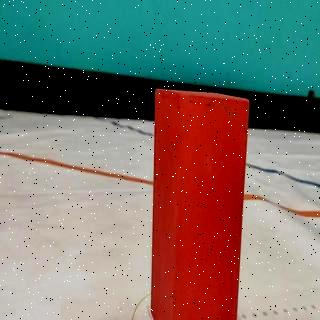redbox: (150, 89, 250, 320)
